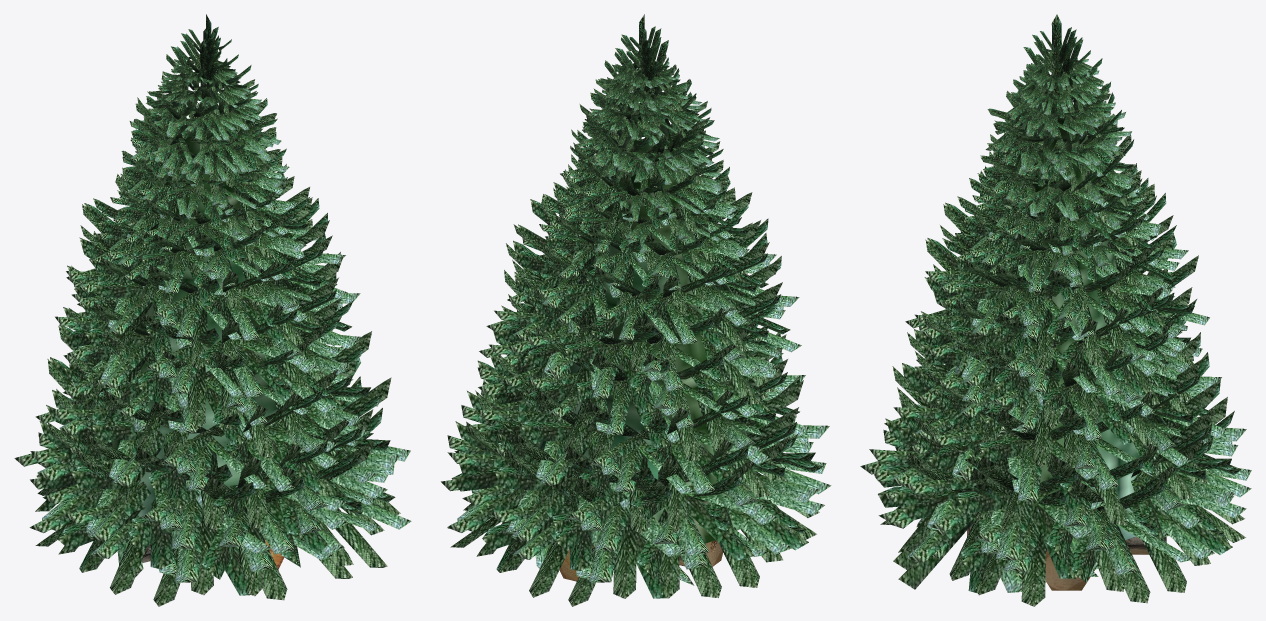
The model's file is sapin.glb.
3 views of the same model, side by side, from view 1: azimuth 30°, elevation 25°; view 2: azimuth 150°, elevation 25°; view 3: azimuth 270°, elevation 25° (orthographic).
Visible parts, largest first — view 1: Object_3; view 2: Object_3, Object_2; view 3: Object_3, Object_2.
Boxes of the visible parts, x1,y1,x2,y2 form: Object_3: [14, 14, 411, 606]; Object_3: [441, 14, 831, 606]; Object_2: [559, 540, 723, 581]; Object_3: [860, 14, 1251, 606]; Object_2: [967, 527, 1166, 590].
Size of the model in its own units: 6.61 by 9.81 by 6.6.
2 materials, 2 textured.
